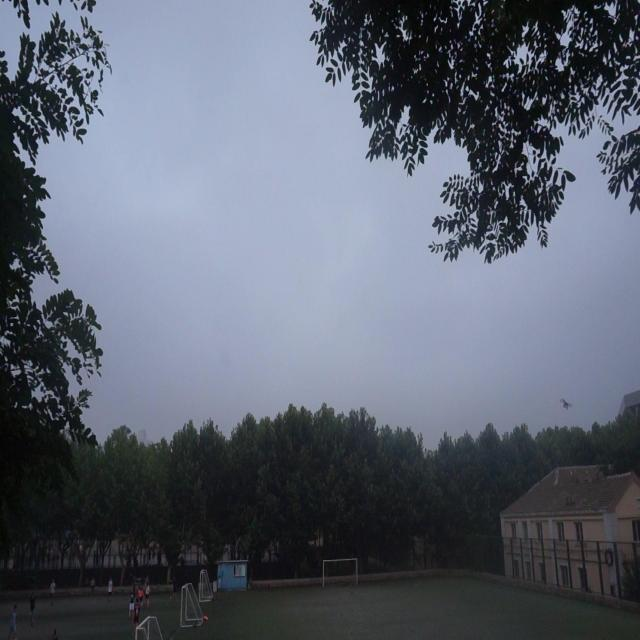UAV: (560, 399, 572, 409)
